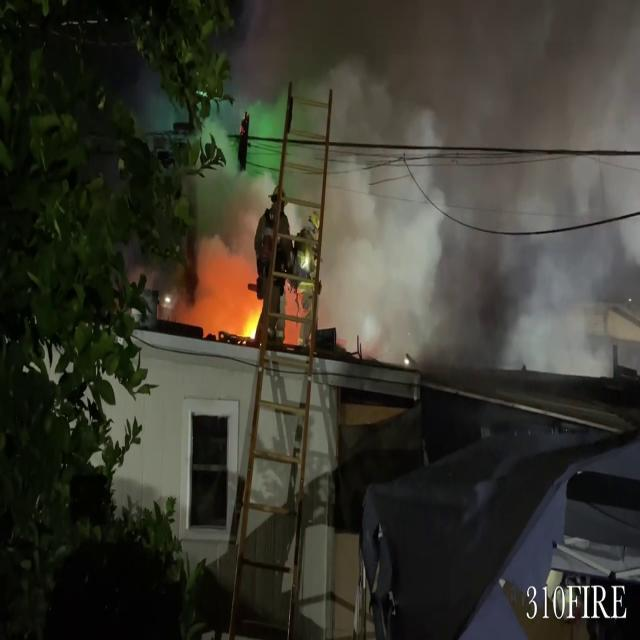Fire: (185, 283, 263, 343)
Smoke: (303, 0, 640, 366)
